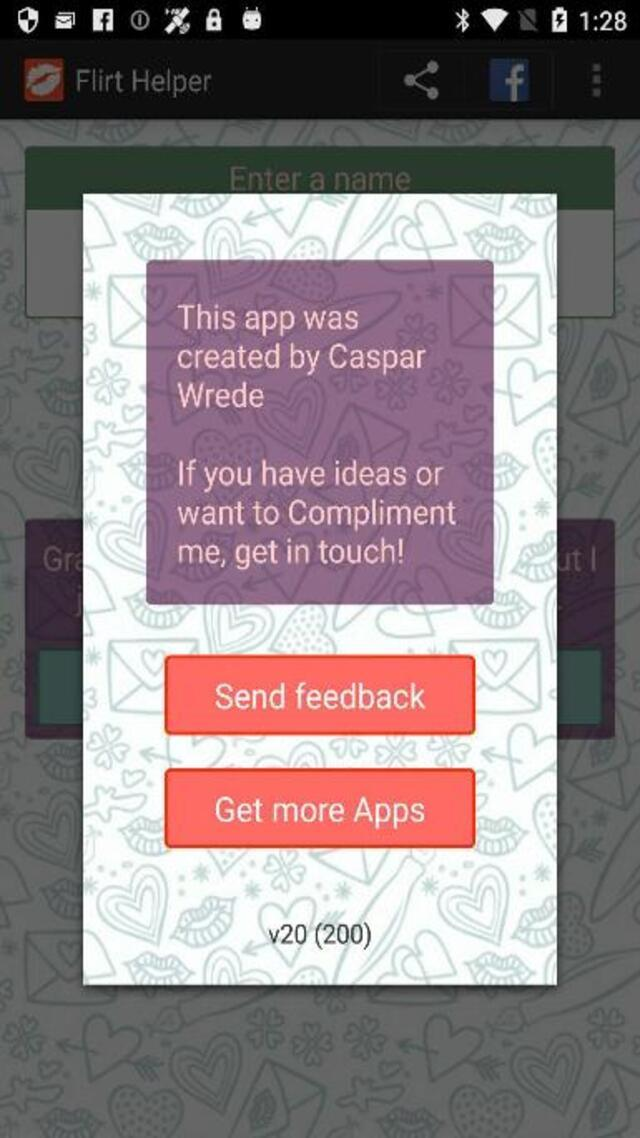Icon: (488, 59, 528, 102), (403, 61, 438, 100), (592, 62, 602, 98)
Image: (23, 60, 63, 100)
Text: (168, 456, 447, 492), (174, 496, 460, 531), (173, 340, 433, 375), (213, 793, 427, 833), (177, 537, 411, 570), (211, 680, 426, 713), (176, 303, 363, 338), (78, 68, 211, 98), (172, 379, 270, 415), (268, 917, 369, 950)
TextButton: (163, 769, 474, 849), (163, 655, 474, 735)
